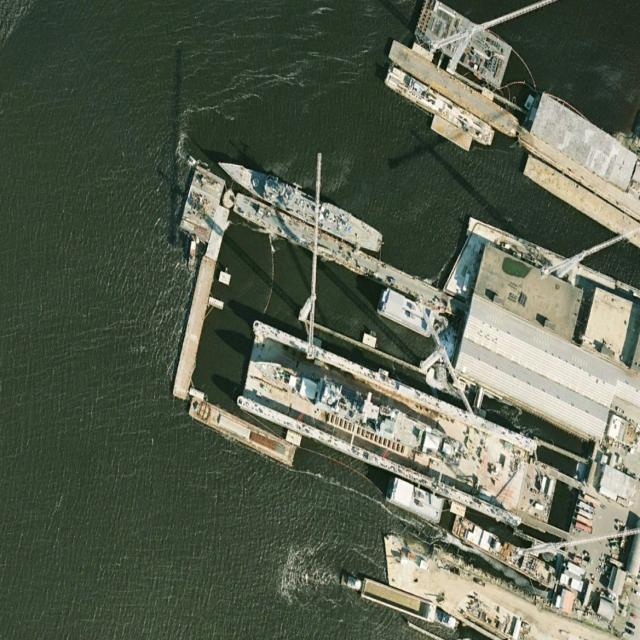Cruiser: (249, 348, 466, 470)
Frigate: (213, 152, 386, 255)
